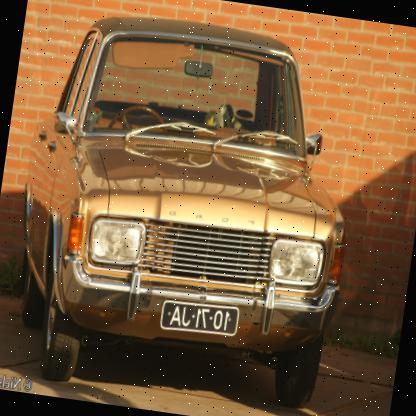Car: (0, 1, 373, 415)
